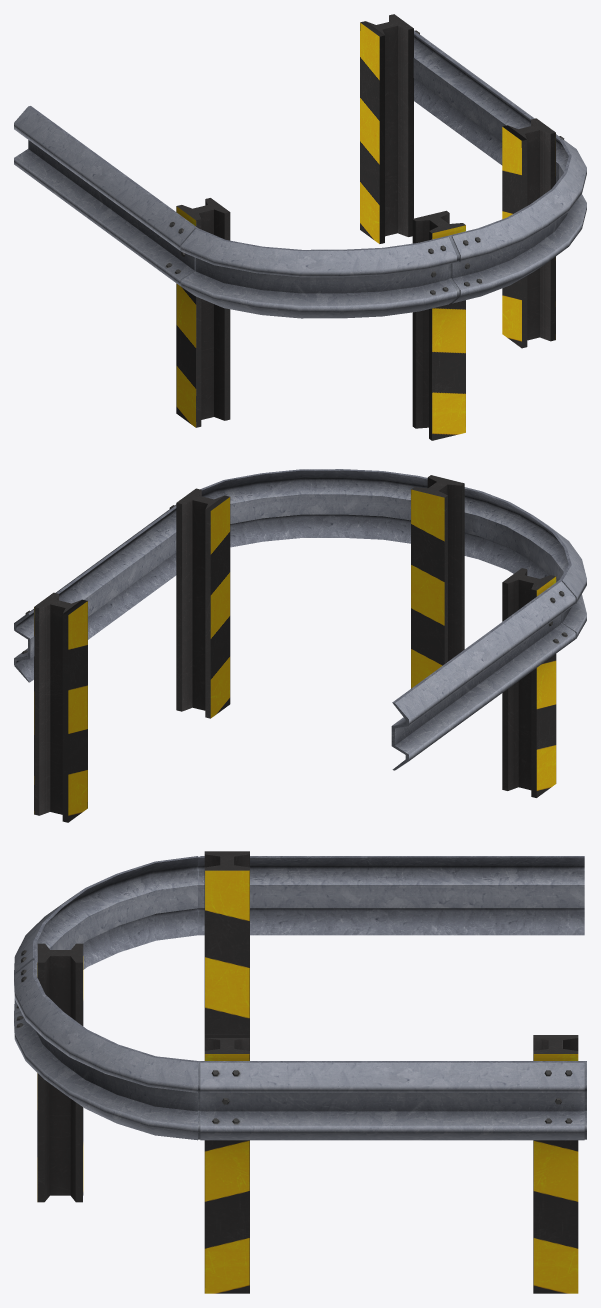
Rendered from Gen_hywy_barricade_06.fbx.
3 renders of one model, top to bottom at view 1: azimuth 30°, elevation 25°; view 2: azimuth 150°, elevation 25°; view 3: azimuth 270°, elevation 25°, orthographic. The views are drawn at different scales.
Parts seen in each view (by area): view 1: Gen_hywy_barricade_06_LOD0; view 2: Gen_hywy_barricade_06_LOD0; view 3: Gen_hywy_barricade_06_LOD0.
Boxes of the visible parts, bbox=[...] form: Gen_hywy_barricade_06_LOD0: bbox=[14, 14, 586, 440]; Gen_hywy_barricade_06_LOD0: bbox=[14, 469, 586, 822]; Gen_hywy_barricade_06_LOD0: bbox=[14, 851, 586, 1293].
Size of what is drawn, in the model's own units: 2.19 by 1.1 by 2.38.
1 material, 1 textured.
